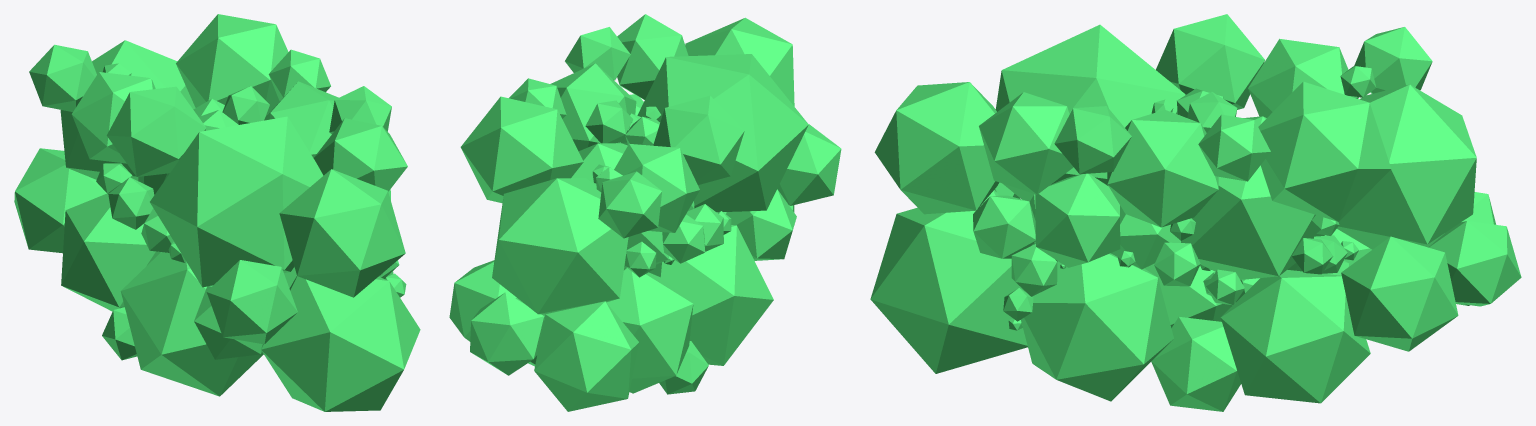
Rendered from Bush2.fbx.
3 renders of one model, left to right at view 1: azimuth 30°, elevation 25°; view 2: azimuth 150°, elevation 25°; view 3: azimuth 270°, elevation 25°, orthographic. The views are drawn at different scales.
Visible parts, largest first — view 1: Platonic_62, Platonic_30, Platonic_46, Platonic_54, Platonic_14, Platonic_52, Platonic_70, Platonic_58, Platonic_60, Platonic_12, Platonic_2, Platonic_66 (+12 smaller); view 2: Platonic_2, Platonic_62, Platonic_60, Platonic_54, Platonic_14, Platonic_52, Platonic_70, Platonic_1_73, Platonic_66, Platonic_46, Platonic_12, Platonic_48 (+13 smaller); view 3: Platonic_30, Platonic_26, Platonic_2, Platonic_24, Platonic_14, Platonic_46, Platonic_62, Platonic_38, Platonic_48, Platonic_56, Platonic_12, Platonic_1_19 (+19 smaller).
Part boxes in pixels (x1,y1,x2,y2): Platonic_62: (150,116,323,287); Platonic_30: (261,276,420,411); Platonic_46: (279,169,405,297); Platonic_54: (120,252,263,396); Platonic_14: (176,14,288,117); Platonic_52: (61,193,160,311); Platonic_70: (106,86,206,176); Platonic_58: (206,260,297,344); Platonic_60: (14,148,106,253); Platonic_12: (314,118,407,191); Platonic_2: (60,40,195,183); Platonic_66: (71,72,155,163); Platonic_2: (492,178,628,314); Platonic_62: (637,54,808,212); Platonic_60: (534,301,639,411); Platonic_54: (649,225,773,365); Platonic_14: (460,96,583,203); Platonic_52: (606,267,693,393); Platonic_70: (653,95,744,184); Platonic_1_73: (470,292,544,375); Platonic_66: (614,143,699,232); Platonic_46: (685,17,794,106); Platonic_12: (617,14,688,99); Platonic_48: (550,63,636,151); Platonic_30: (870,190,1027,373); Platonic_26: (1021,253,1173,401); Platonic_2: (1337,84,1476,249); Platonic_24: (1220,270,1370,403); Platonic_14: (1258,81,1391,221); Platonic_46: (874,82,999,214); Platonic_62: (995,24,1185,201); Platonic_38: (1341,236,1458,351); Platonic_48: (1107,110,1218,227); Platonic_56: (1181,116,1324,279); Platonic_12: (979,92,1073,194); Platonic_1_19: (1035,173,1120,267).
Size of the model in its own units: 48.05 by 59.14 by 110.
